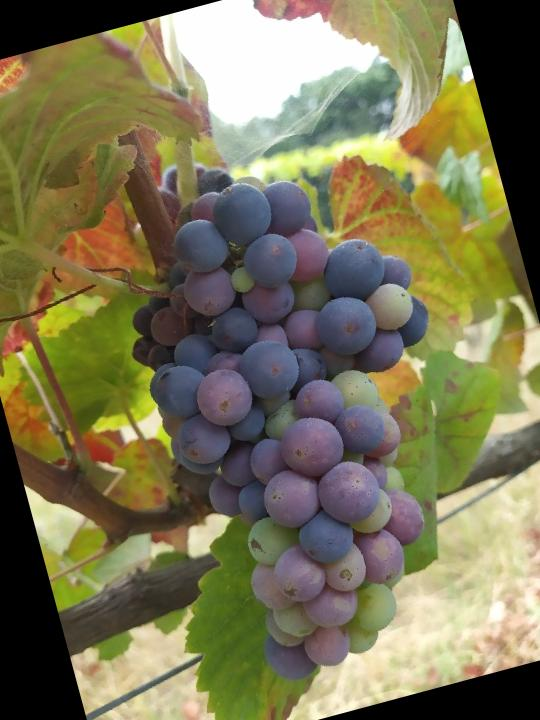grape: (91, 135, 515, 704)
